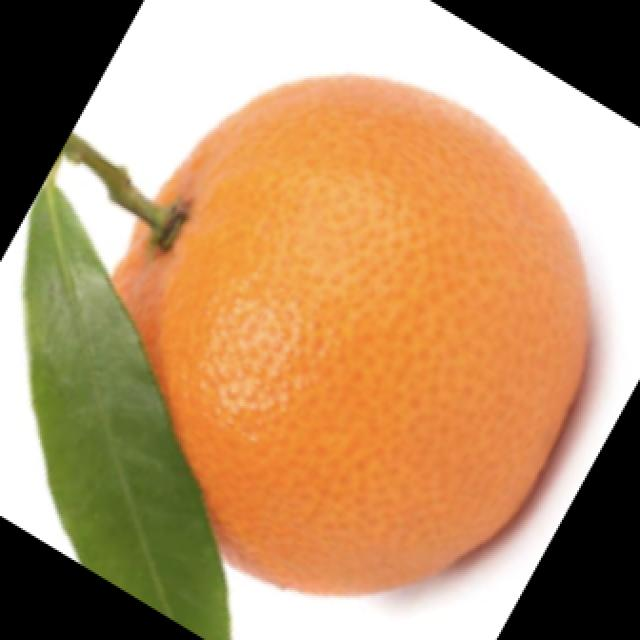matang: (105, 69, 594, 607)
